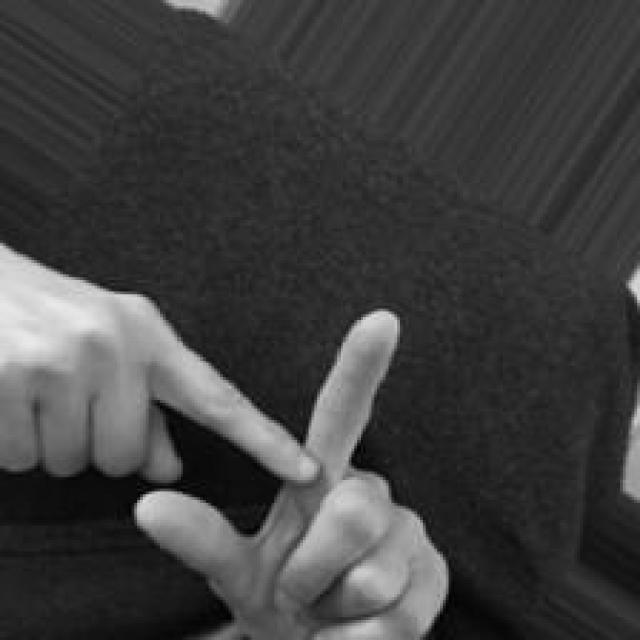J: (0, 237, 449, 640)
